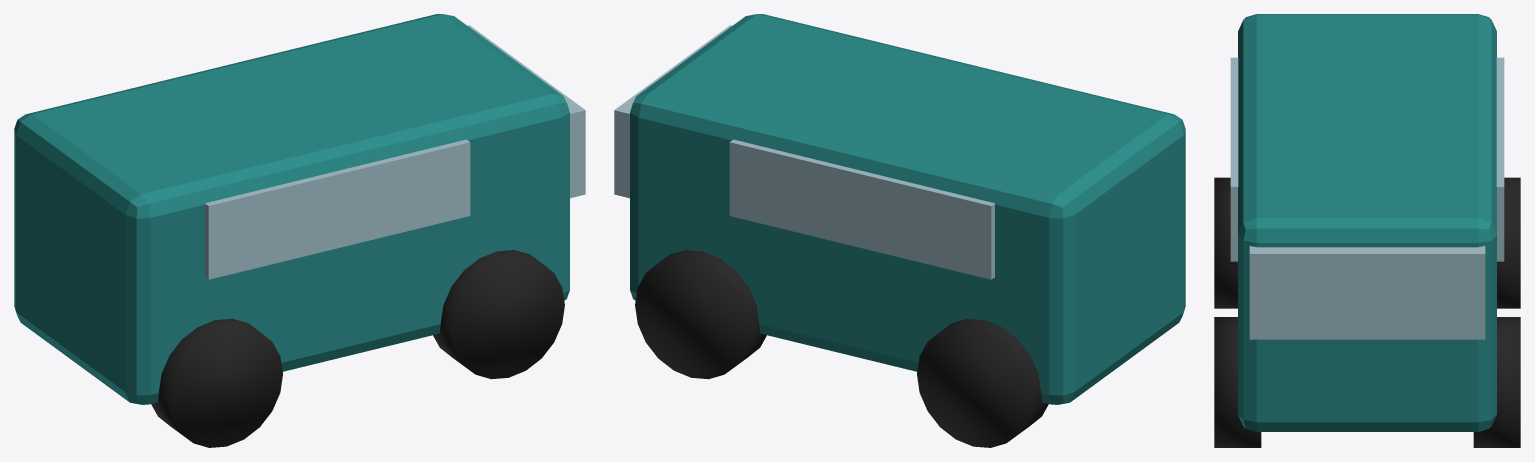
File: car_van.glb
3 views of the same model, side by side, from view 1: azimuth 30°, elevation 25°; view 2: azimuth 150°, elevation 25°; view 3: azimuth 270°, elevation 25° (orthographic).
Parts seen in each view (by area): view 1: car_van; view 2: car_van; view 3: car_van.
Part boxes in pixels (<box>): car_van: <box>14,14,585,447</box>; car_van: <box>614,14,1185,447</box>; car_van: <box>1214,14,1520,447</box>.
Bounding box in the file's own units: 0.227 × 0.12 × 0.13.
